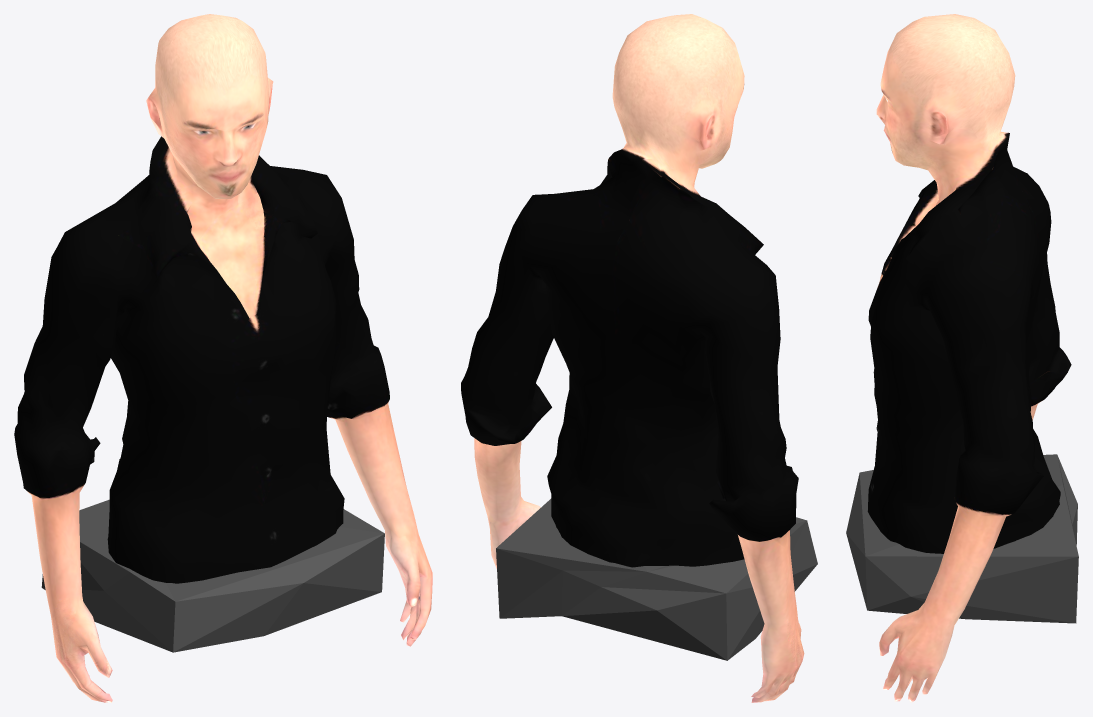
3 views of the same model, side by side, from view 1: azimuth 30°, elevation 25°; view 2: azimuth 150°, elevation 25°; view 3: azimuth 270°, elevation 25° (orthographic). The views are drawn at different scales.
Visible parts, largest first — view 1: remesh_7_combined_Remeshed, Cube; view 2: remesh_7_combined_Remeshed, Cube; view 3: remesh_7_combined_Remeshed, Cube.
Boxes of the visible parts, left/top/right/bottom form: remesh_7_combined_Remeshed: left=14, top=14, right=432, bottom=702; Cube: left=41, top=499, right=384, bottom=652; remesh_7_combined_Remeshed: left=461, top=14, right=804, bottom=702; Cube: left=496, top=498, right=817, bottom=660; remesh_7_combined_Remeshed: left=867, top=14, right=1071, bottom=702; Cube: left=846, top=454, right=1078, bottom=623.
Size of the model in its own units: 55.64 by 100 by 33.95.
Materials: 2 (1 with a texture image).
